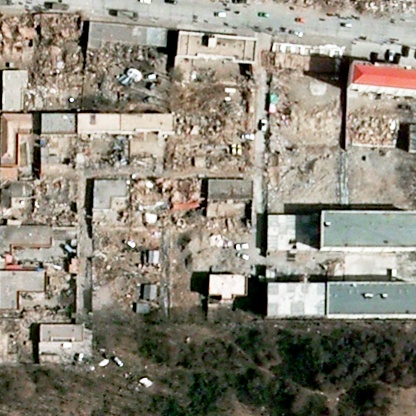collapsed: (165, 78, 257, 173), (119, 175, 206, 230), (33, 10, 84, 93), (1, 175, 81, 227), (69, 137, 157, 172), (261, 49, 292, 130), (263, 131, 294, 209), (86, 43, 125, 102), (348, 108, 399, 150), (1, 9, 39, 59), (207, 214, 252, 237), (20, 305, 69, 324)
